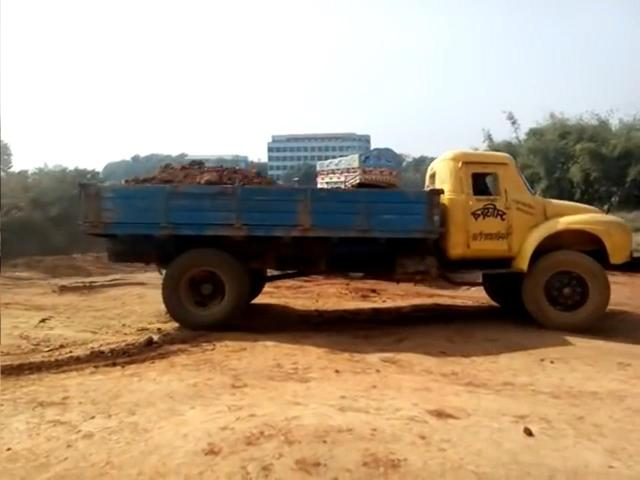truck: (73, 147, 638, 331)
